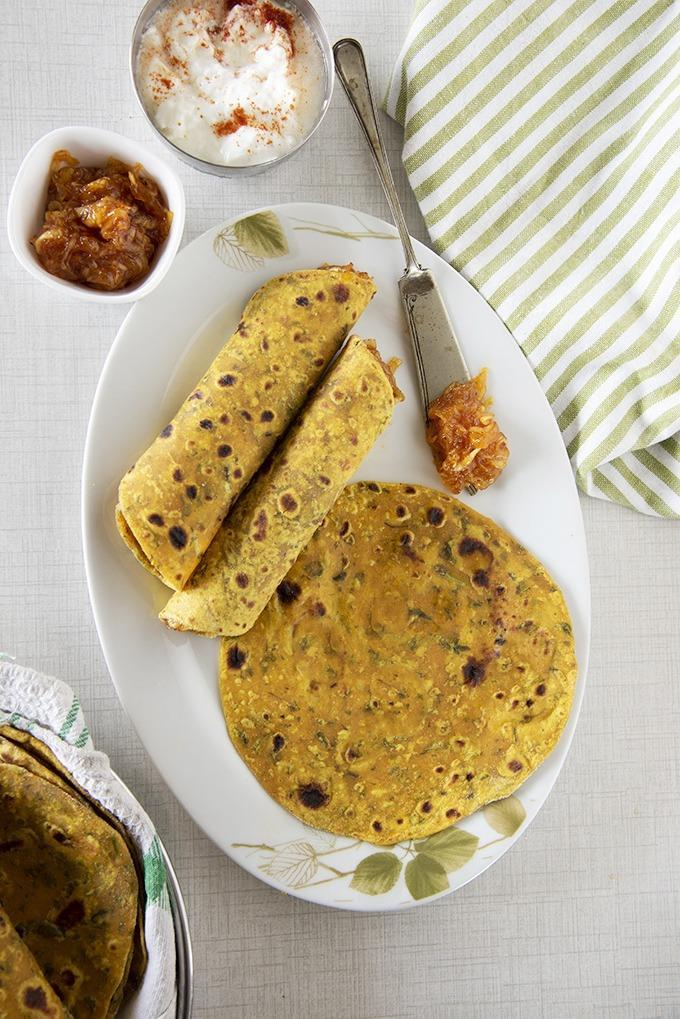thepla: (151, 316, 510, 812)
yogurt: (121, 1, 339, 169)
